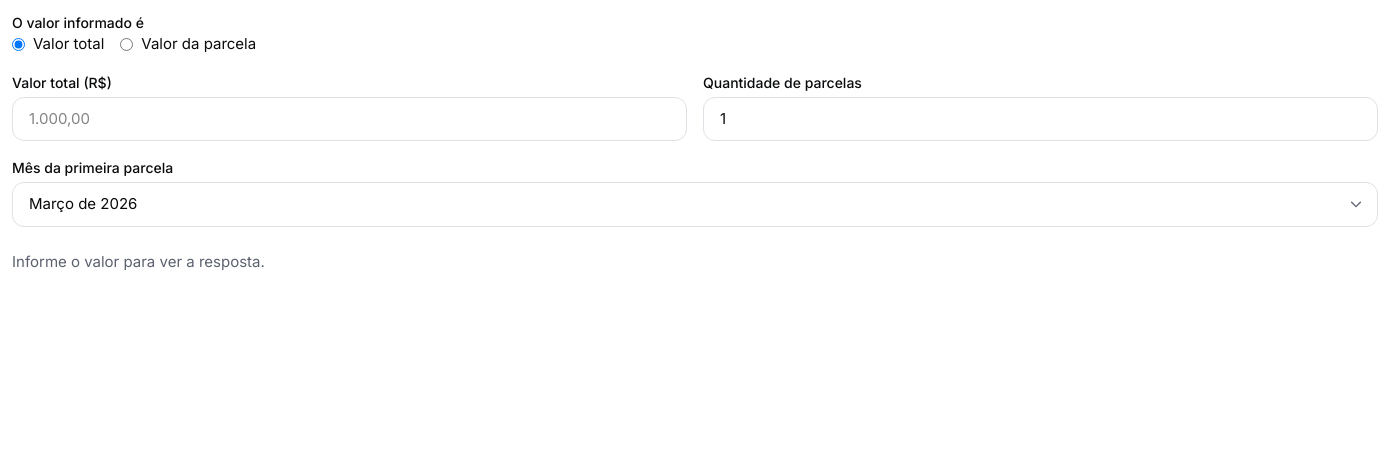
Scenario: Simulador — a resposta a cada tecla (SIM-02, ACs 3, 10 e 11) › R$ 0,01 em 2x mostra a mensagem de valor pequeno demais junto do valor (AC 11)
In the field labelled "Valor total (R$)": [350, 119] box x1=12 y1=96 x2=687 y2=141, type "0,01"
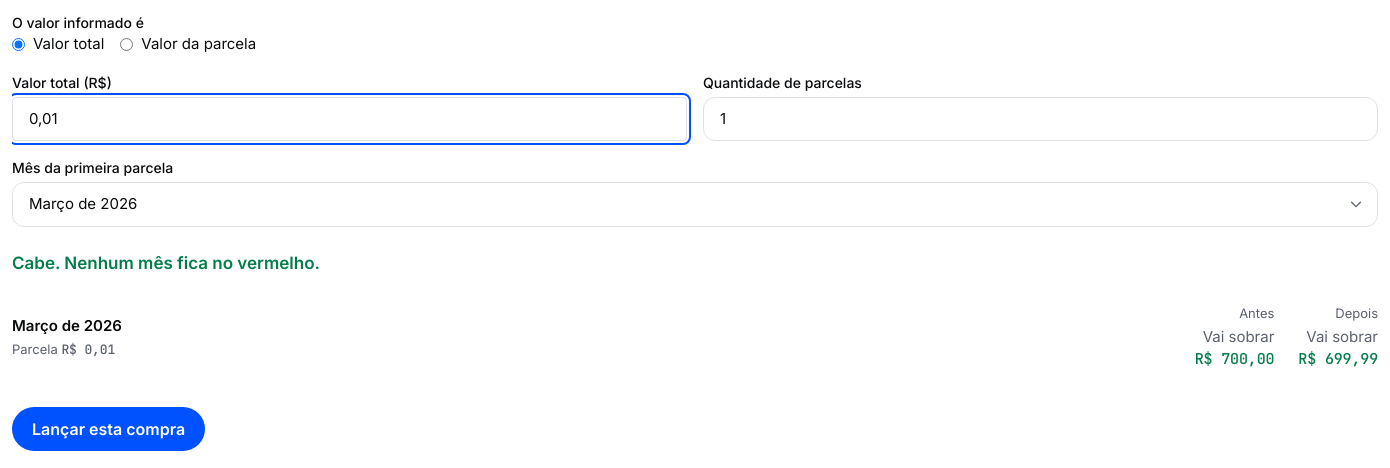
Clear the number field labelled "Quantidade de parcelas": [1040, 119] box x1=703 y1=96 x2=1378 y2=141
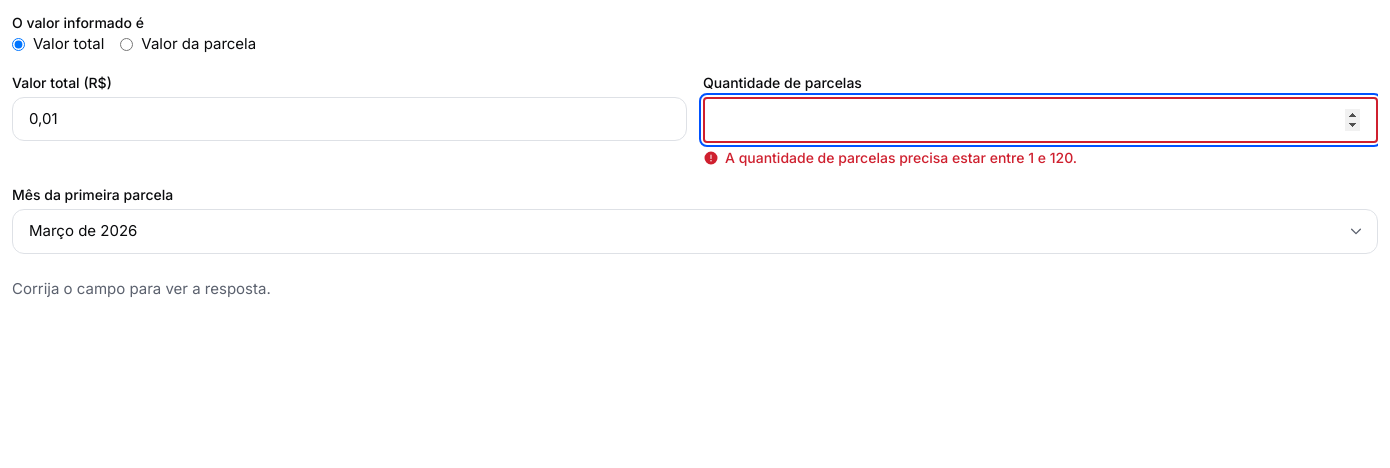
In the number field labelled "Quantidade de parcelas": [1040, 120] box x1=703 y1=96 x2=1378 y2=143, type "2"
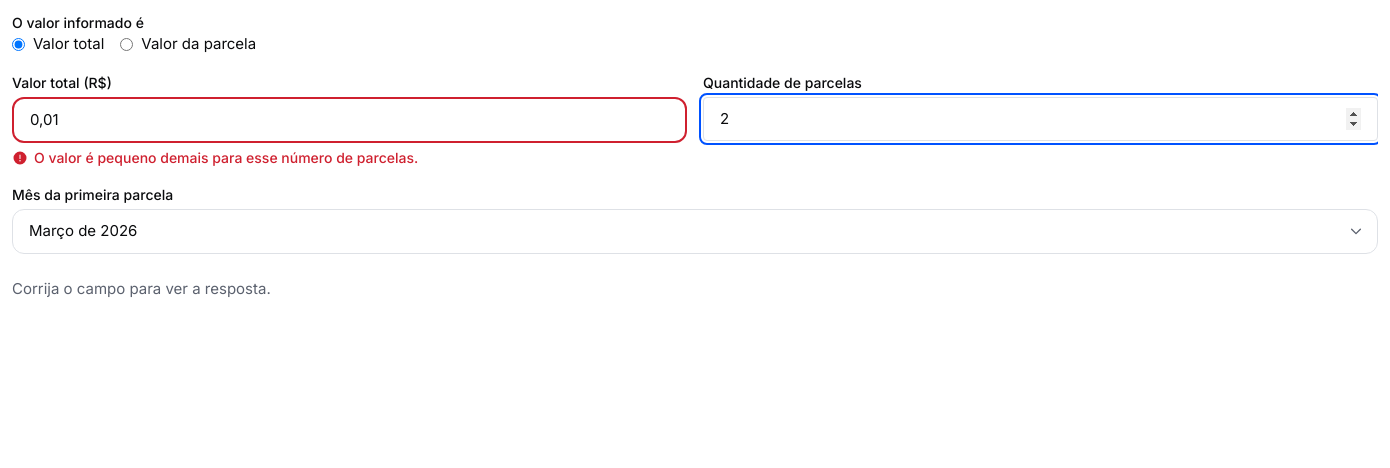
Result: the element showing "O valor é pequeno demais para esse número de parcelas." is shown at x1=12 y1=149 x2=418 y2=166
